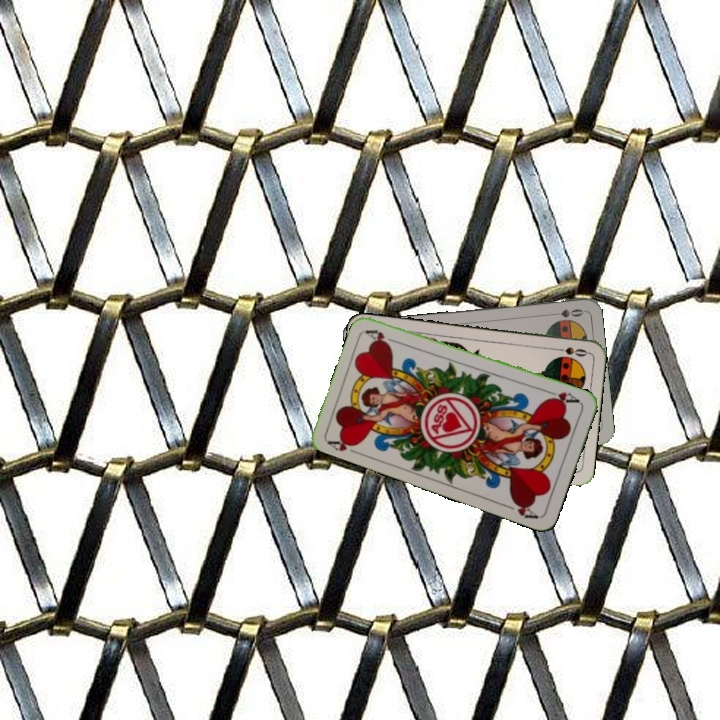HA: (324, 433, 363, 457), (543, 386, 583, 407)
SO: (550, 343, 590, 359), (545, 305, 586, 320)
